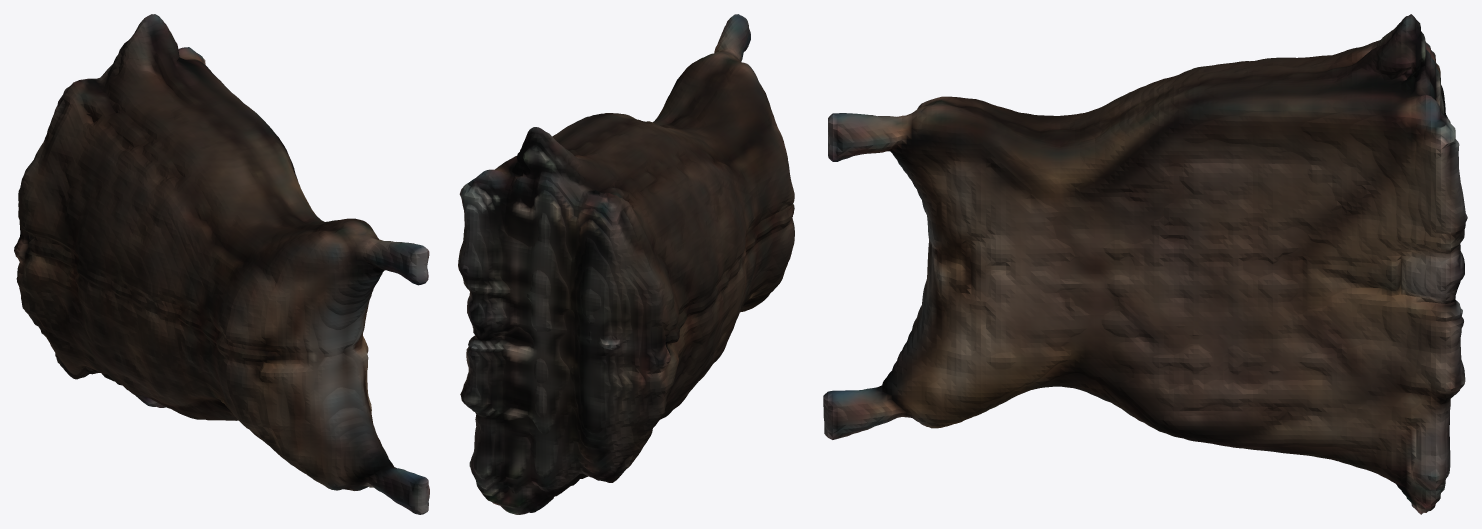
The picture shows the model from 3 angles, left to right: view 1: azimuth 30°, elevation 25°; view 2: azimuth 150°, elevation 25°; view 3: azimuth 270°, elevation 25°; orthographic projection. The views are drawn at different scales.
Size of the model in its own units: 0.3911 by 0.7376 by 0.8897.
